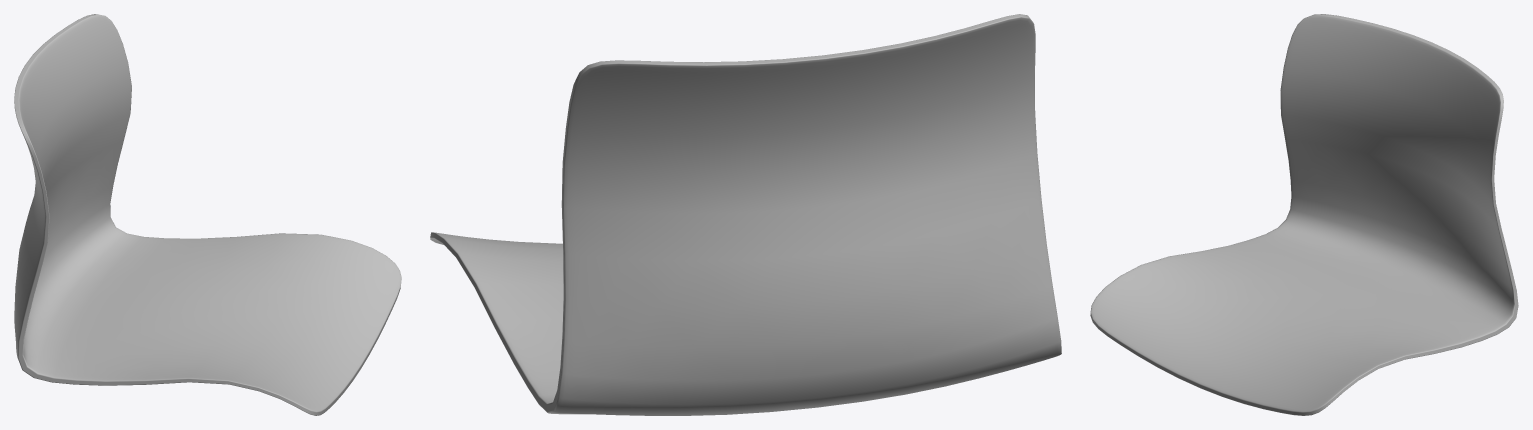
The model's file is tablechair_0201_seat.glb.
The picture shows the model from 3 angles, left to right: view 1: azimuth 30°, elevation 25°; view 2: azimuth 150°, elevation 25°; view 3: azimuth 270°, elevation 25°; orthographic projection. The views are drawn at different scales.
Visible parts, largest first — view 1: tablechair_0201_seat; view 2: tablechair_0201_seat; view 3: tablechair_0201_seat.
Boxes of the visible parts, <box> form: tablechair_0201_seat: <box>14,14,401,415</box>; tablechair_0201_seat: <box>430,14,1061,415</box>; tablechair_0201_seat: <box>1090,14,1518,415</box>.
Size of the model in its own units: 0.6251 by 0.4006 by 0.6251.
1 material, 1 textured.
